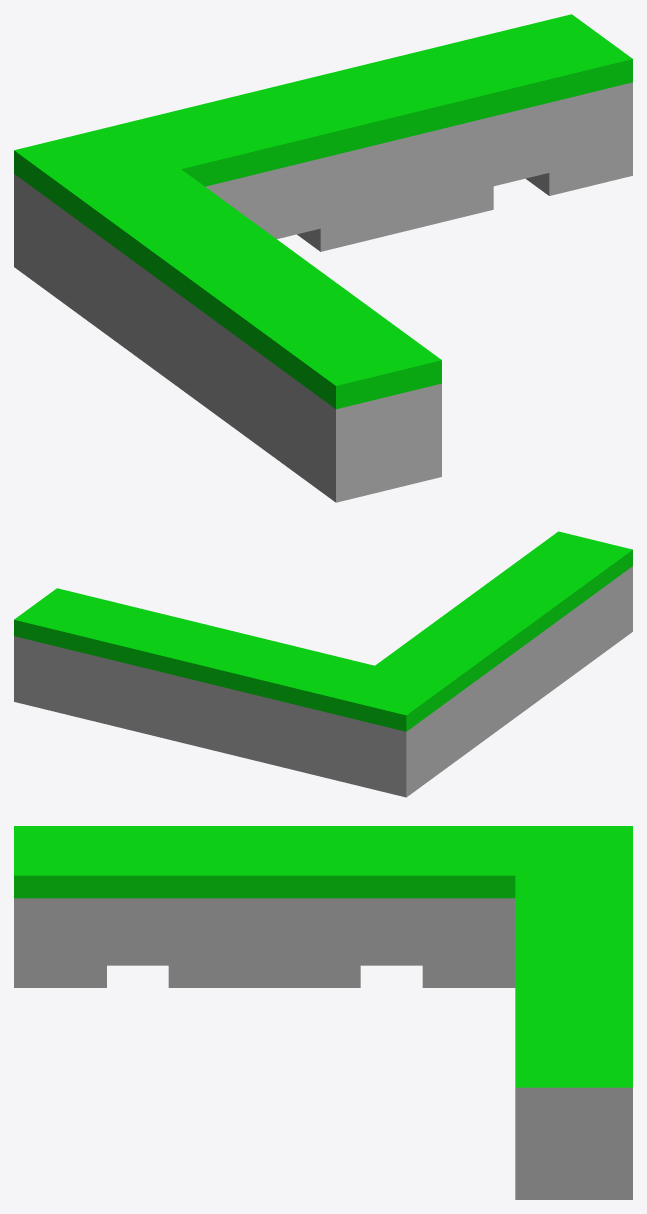
The model's file is general-CornerMarker.glb.
3 views of the same model, one above another, from view 1: azimuth 30°, elevation 25°; view 2: azimuth 150°, elevation 25°; view 3: azimuth 270°, elevation 25° (orthographic). The views are drawn at different scales.
Visible parts, largest first — view 1: BorderMarker.001; view 2: BorderMarker.001; view 3: BorderMarker.001.
Part boxes in pixels (x1,y1,x2,y2): BorderMarker.001: [14, 14, 632, 502]; BorderMarker.001: [14, 531, 632, 797]; BorderMarker.001: [14, 826, 632, 1199].
Size of the model in its own units: 0.1 by 0.02 by 0.1.
